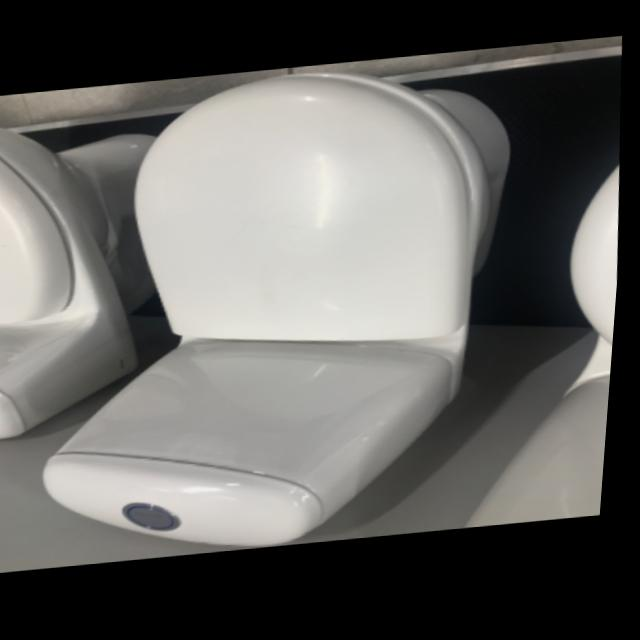toilet: (25, 56, 540, 570)
